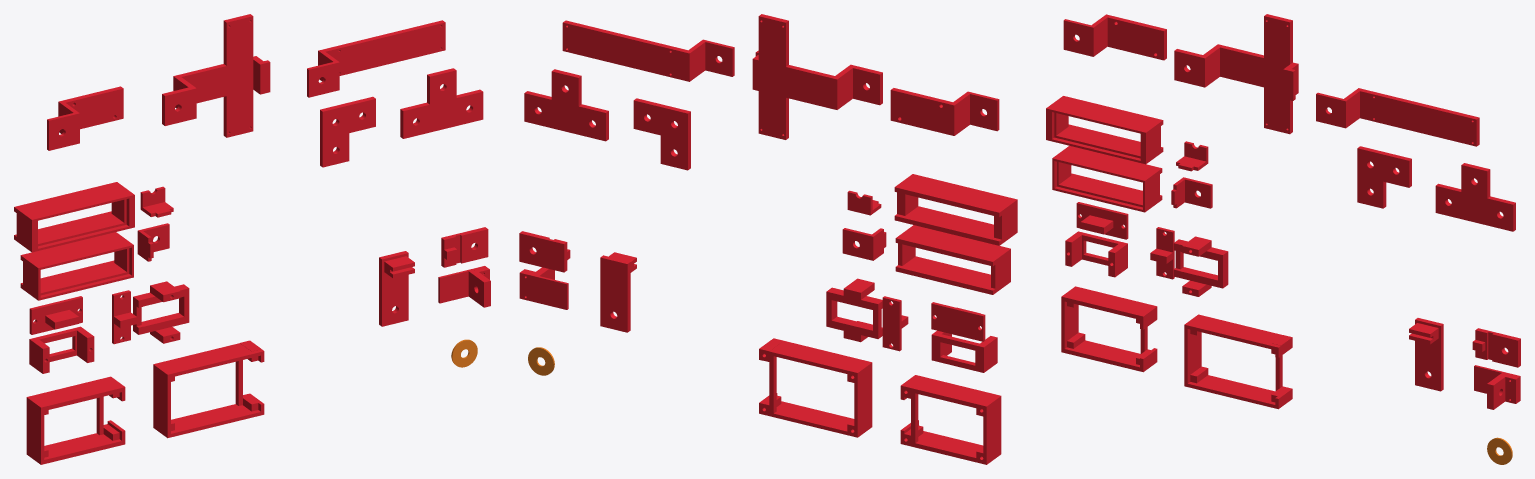
File: tinker.obj
The picture shows the model from 3 angles, left to right: view 1: azimuth 30°, elevation 25°; view 2: azimuth 150°, elevation 25°; view 3: azimuth 330°, elevation 25°; orthographic projection. The views are drawn at different scales.
Parts seen in each view (by area): view 1: group_0_15277357, group_0_16089887; view 2: group_0_15277357, group_0_16089887; view 3: group_0_15277357, group_0_16089887.
Part boxes in pixels (x1,y1,x2,y2): group_0_15277357: (14, 14, 490, 464); group_0_16089887: (451, 339, 477, 367); group_0_15277357: (519, 14, 1017, 464); group_0_16089887: (528, 347, 554, 375); group_0_15277357: (1046, 14, 1520, 409); group_0_16089887: (1487, 437, 1512, 464).
Bounding box in the file's own units: 353 × 290 × 23.8.
